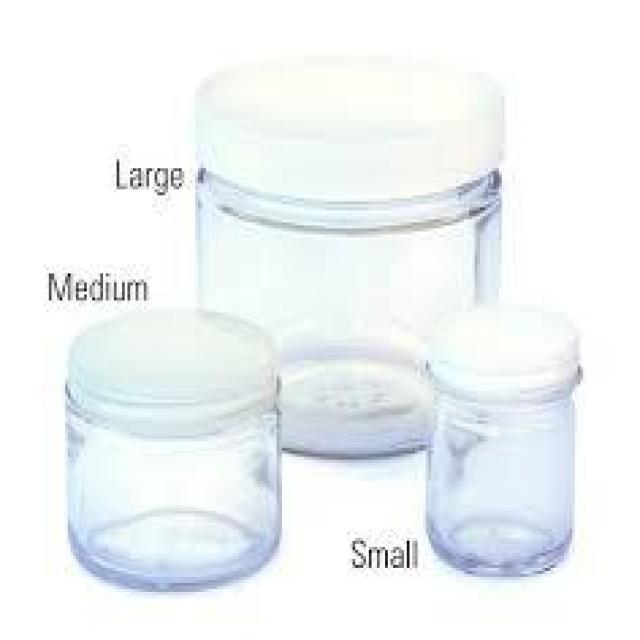non-organic waste: (61, 305, 289, 599)
